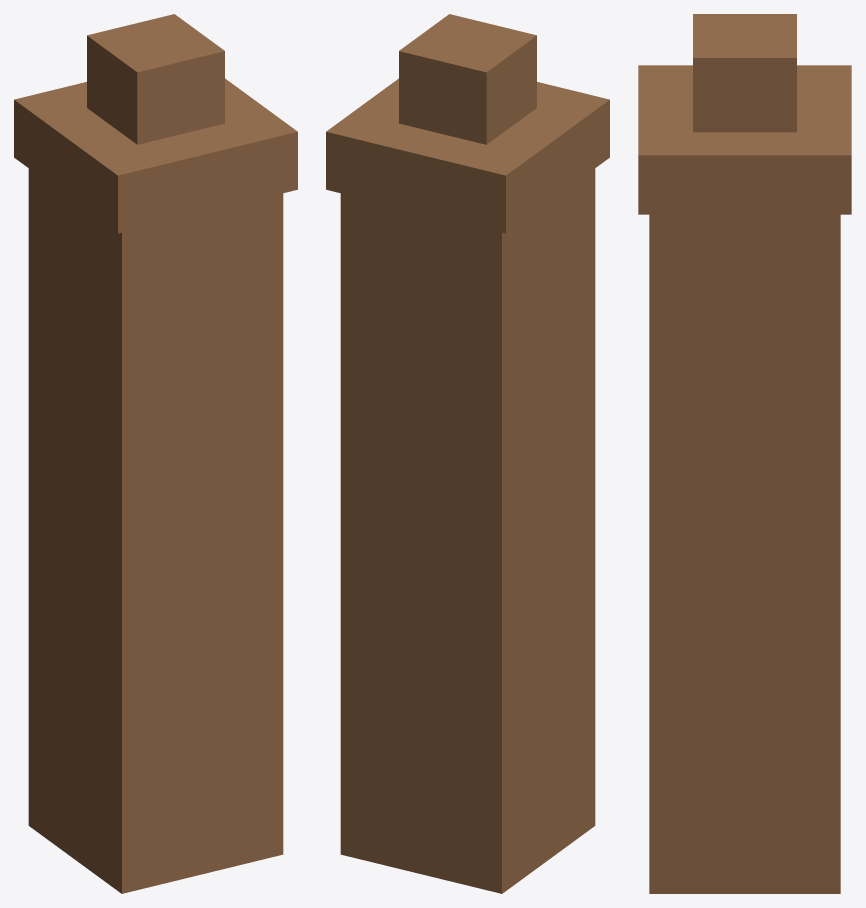
Rendered from leg_rear_left.diagnostic.glb.
3 renders of one model, left to right at view 1: azimuth 30°, elevation 25°; view 2: azimuth 150°, elevation 25°; view 3: azimuth 270°, elevation 25°, orthographic. The views are drawn at different scales.
Visible parts, largest first — view 1: leg_rear_left_mesh; view 2: leg_rear_left_mesh; view 3: leg_rear_left_mesh.
Boxes of the visible parts, bbox=[...] form: leg_rear_left_mesh: bbox=[14, 14, 297, 893]; leg_rear_left_mesh: bbox=[326, 14, 609, 893]; leg_rear_left_mesh: bbox=[638, 14, 851, 893].
Size of the model in its own units: 78 by 330 by 78.
